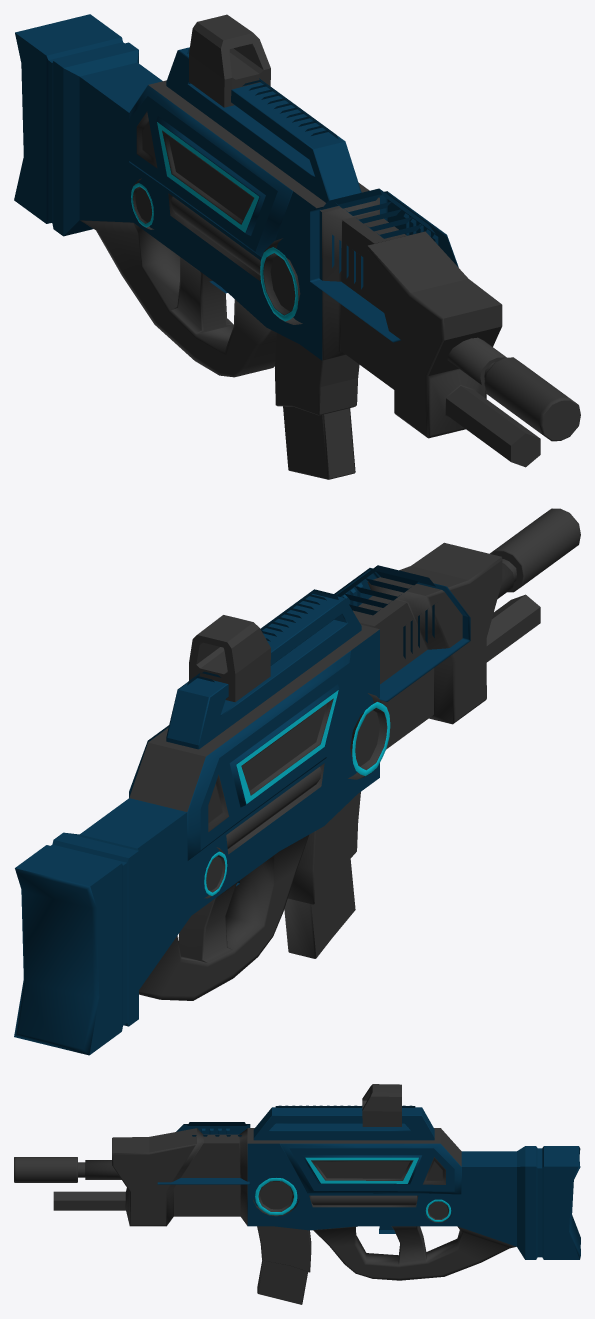
Rendered from scifi_gun1.glb.
The picture shows the model from 3 angles, top to bottom: view 1: azimuth 30°, elevation 25°; view 2: azimuth 150°, elevation 25°; view 3: azimuth 270°, elevation 25°; orthographic projection. The views are drawn at different scales.
Parts seen in each view (by area): view 1: scifi_gun; view 2: scifi_gun; view 3: scifi_gun.
Boxes of the visible parts, x1,y1,x2,y2 form: scifi_gun: (14,14,580,479); scifi_gun: (14,508,580,1055); scifi_gun: (14,1084,580,1304).
Bounding box in the file's own units: 0.8333 × 3.33 × 8.01.
